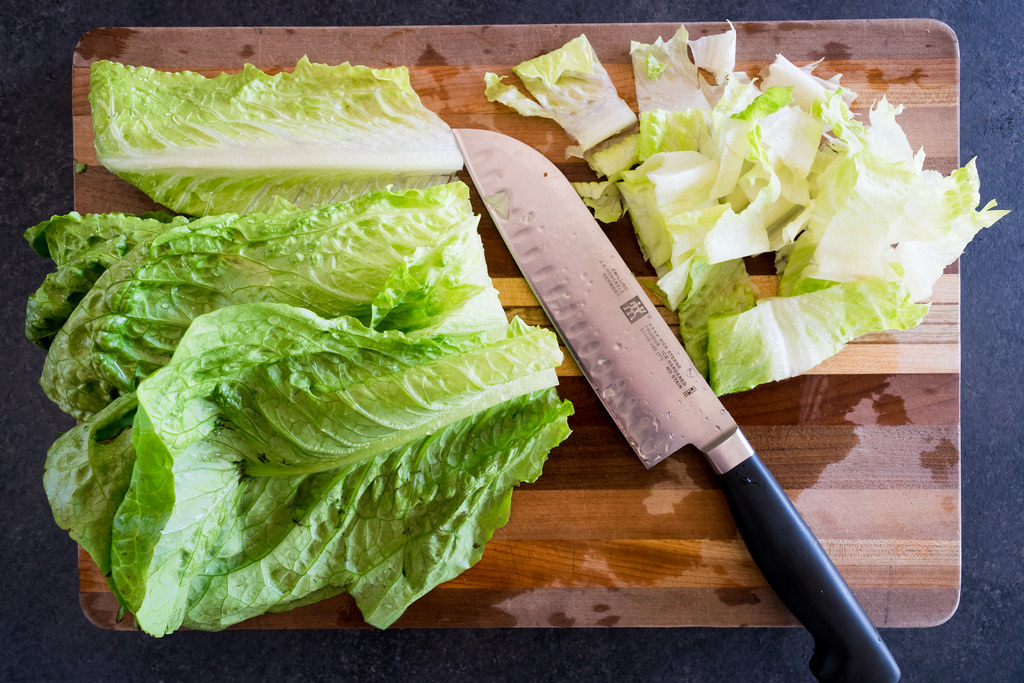chopped lettuce: (45, 233, 501, 579), (91, 64, 460, 210)
